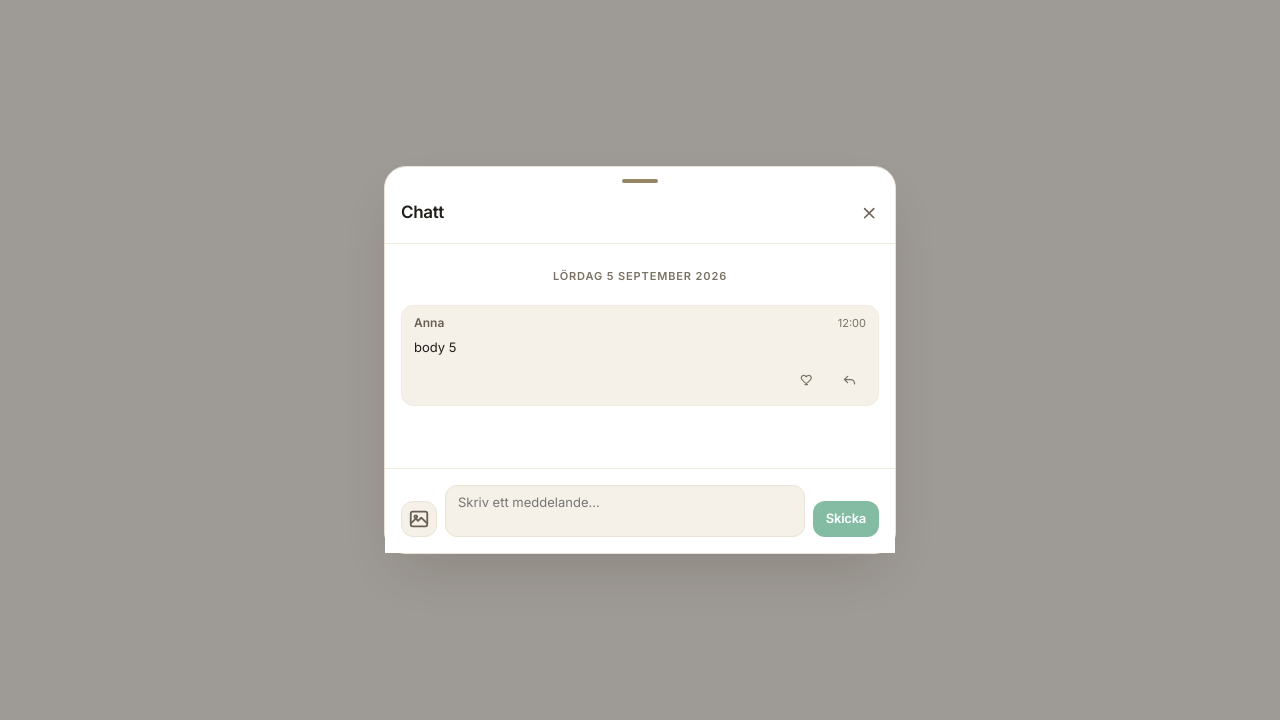
Test case: ChatPanel — reply composer mode + quoted replies (Task G) › arming a reply via a right swipe shows the same composer strip
Press the mouse on the element showing "Anna 12:00 body 5": [640, 356] box [401,305,879,406]
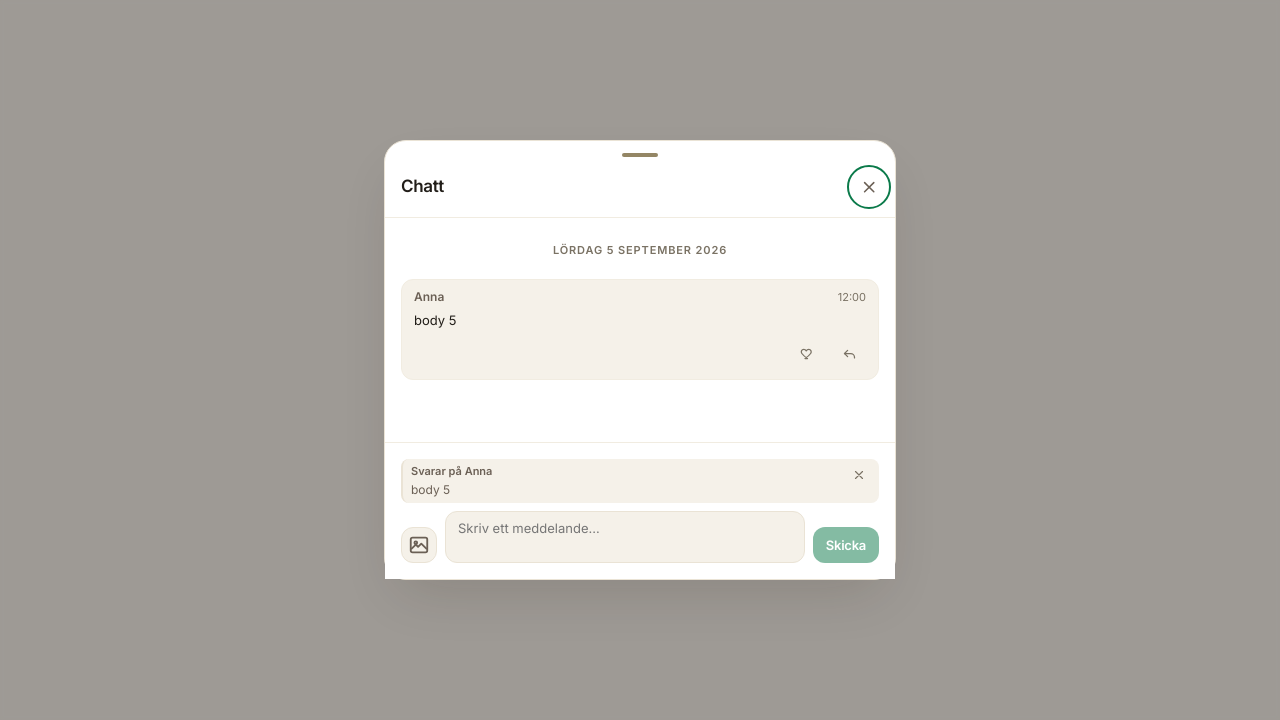
Check: the text "Svarar på Anna" is shown, box [411,464,492,478]
